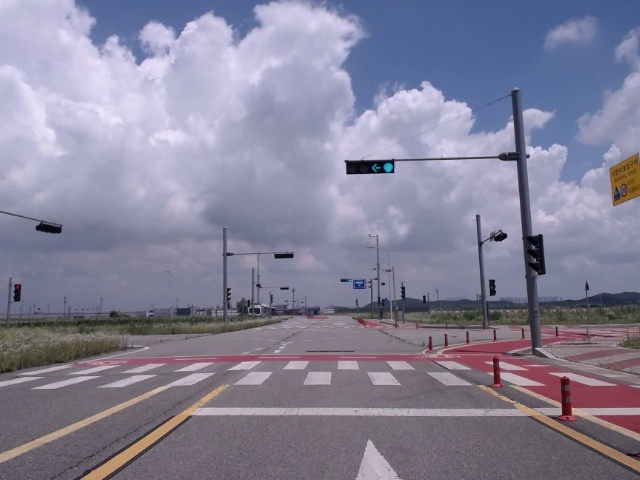all_green_4: (346, 161, 394, 172)
